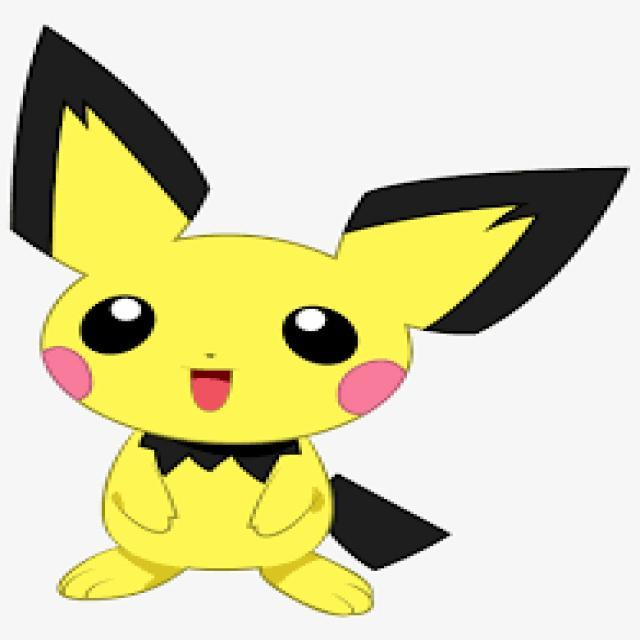pichu: (0, 28, 617, 640)
